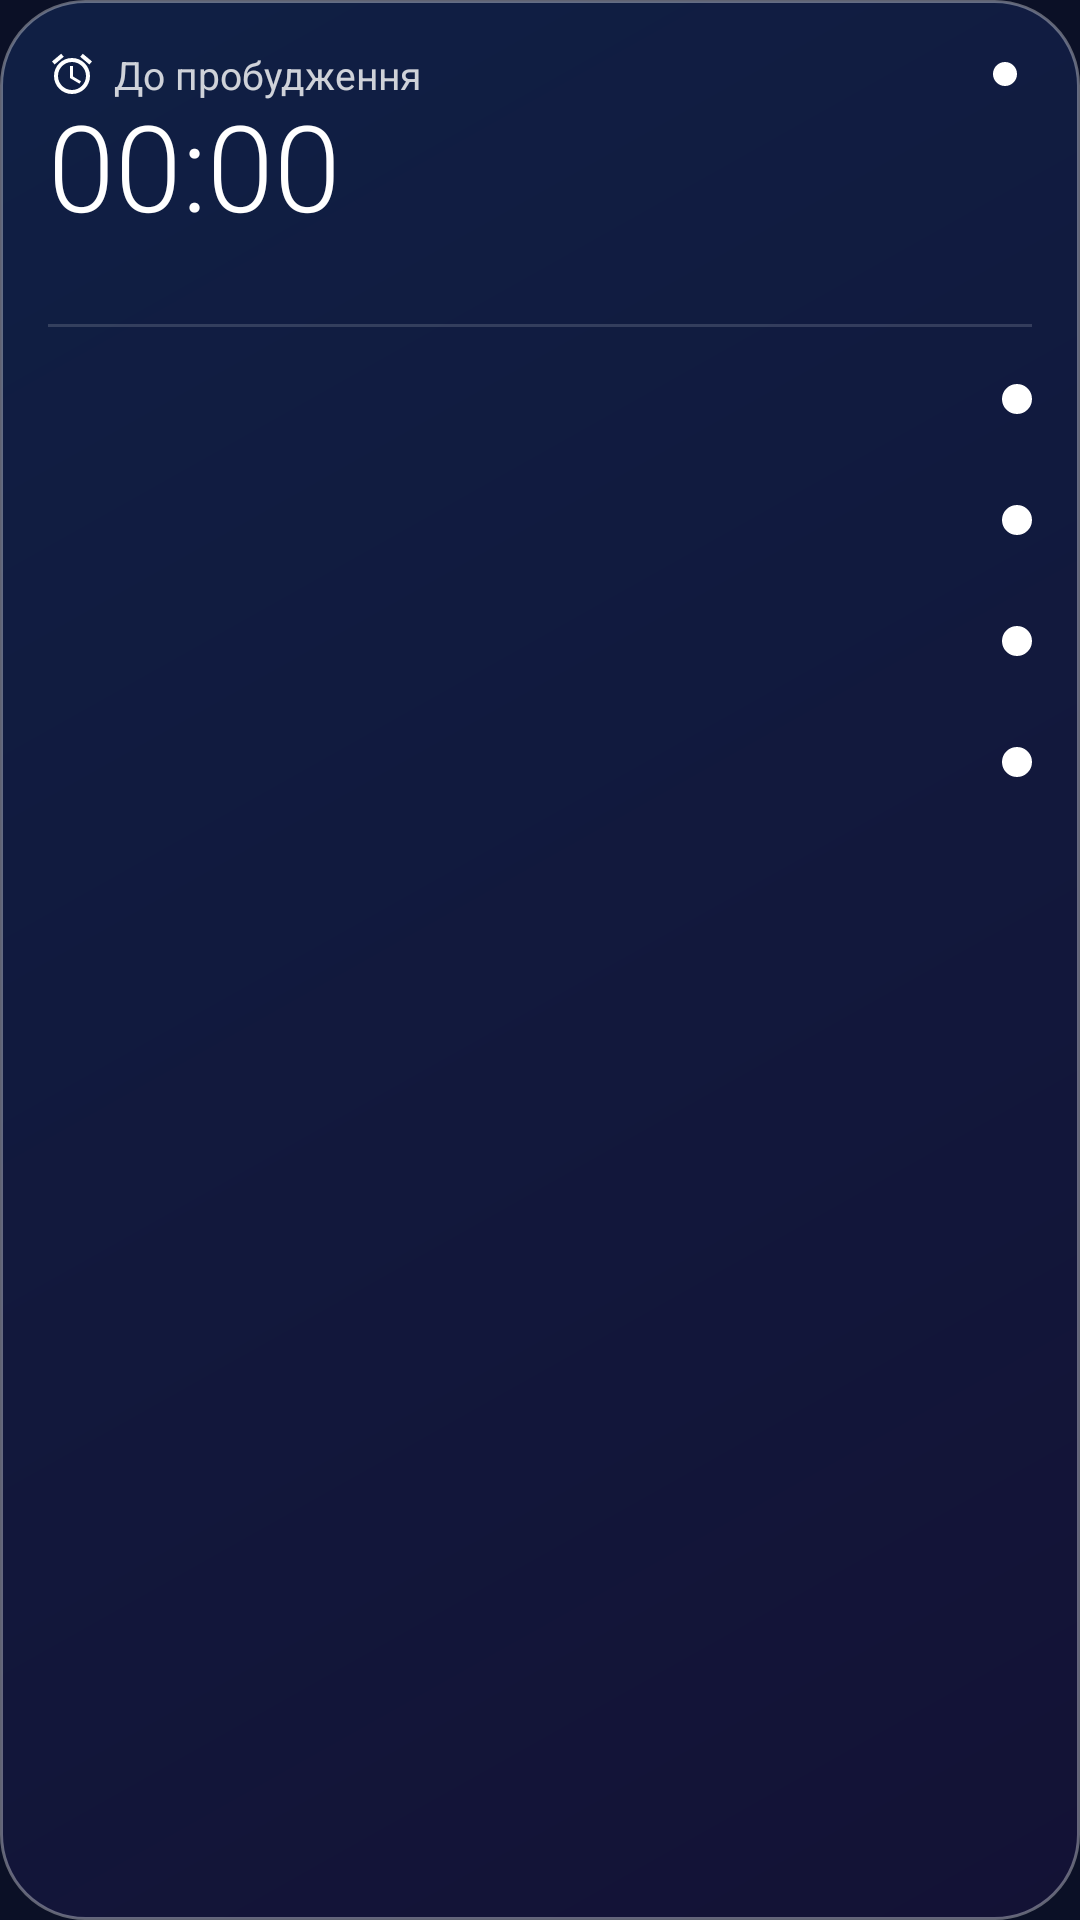

Named icons in this screenshot (1080 x 1920) and their centers, (x=x, y=y):
alarm: (x=72, y=74)
dot: (x=1005, y=74), (x=1017, y=399), (x=1017, y=520), (x=1017, y=641), (x=1017, y=762)
